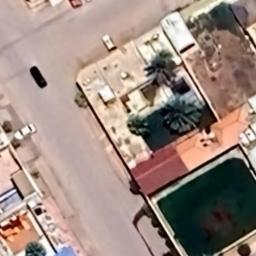sedan: (11, 121, 39, 143), (101, 32, 120, 56), (29, 65, 48, 89)
